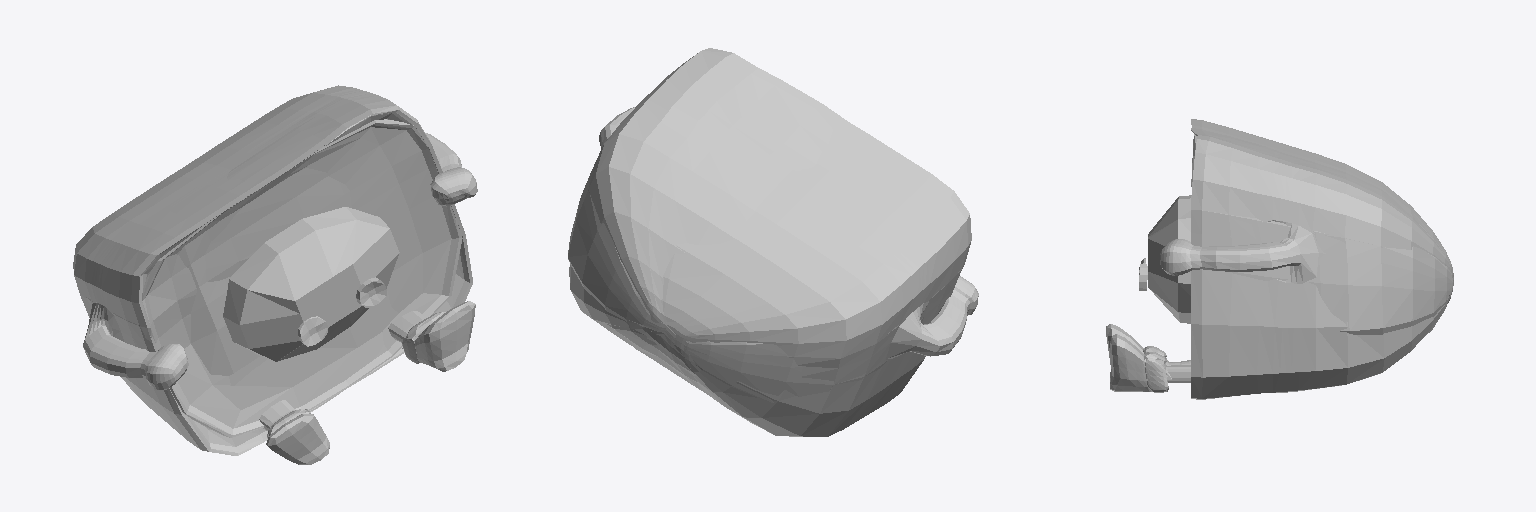
The model's file is Pal_000025.obj.
3 renders of one model, left to right at view 1: azimuth 30°, elevation 25°; view 2: azimuth 150°, elevation 25°; view 3: azimuth 270°, elevation 25°, orthographic.
Parts seen in each view (by area): view 1: Cuerpo_de_aguacate_3.001_Cube.002, Hueso_Cubo.003, Ojos_Cubo.002; view 2: Cuerpo_de_aguacate_3.001_Cube.002; view 3: Cuerpo_de_aguacate_3.001_Cube.002, Hueso_Cubo.003.
Part boxes in pixels (x1,y1,x2,y2): Cuerpo_de_aguacate_3.001_Cube.002: (73,85,477,464); Hueso_Cubo.003: (223,207,399,361); Ojos_Cubo.002: (298,277,386,346); Cuerpo_de_aguacate_3.001_Cube.002: (568,48,978,436); Cuerpo_de_aguacate_3.001_Cube.002: (1106,119,1453,399); Hueso_Cubo.003: (1148,195,1191,323).
Size of the model in its own units: 1.18 by 0.9855 by 1.01.